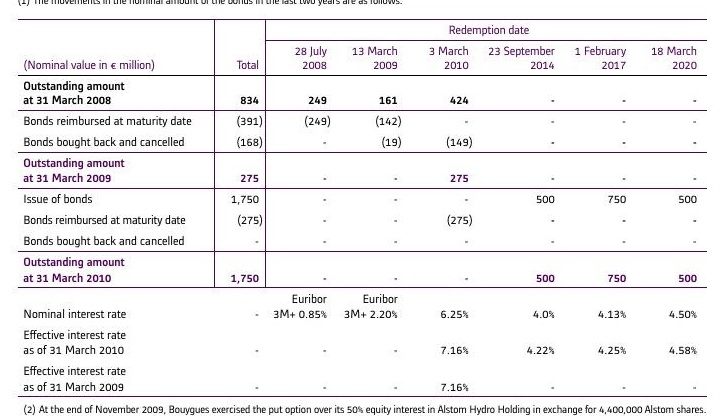table: (0, 0, 728, 416)
